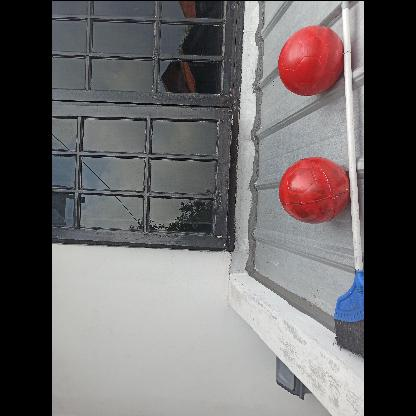red_ball: (276, 152, 348, 224), (276, 22, 346, 94)
